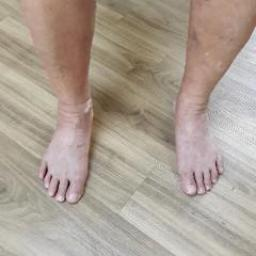Dorsal View -Both Feet-: (21, 68, 239, 216)
